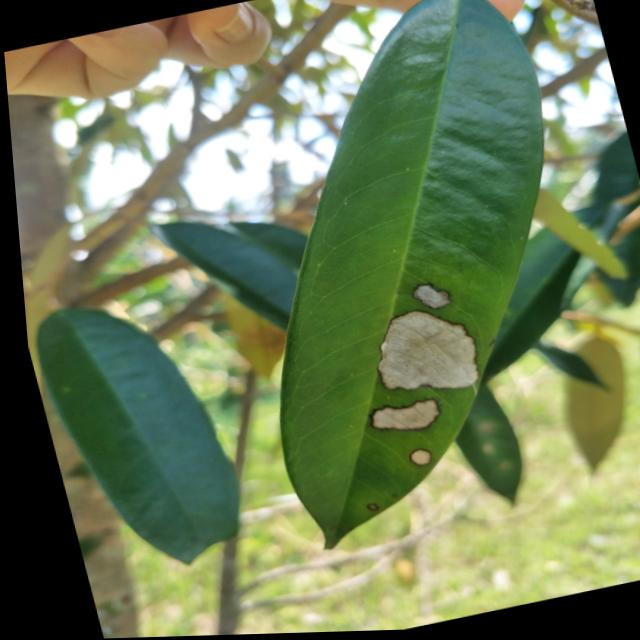Leaf Spot: (347, 283, 491, 413), (310, 362, 449, 458), (384, 272, 455, 324), (390, 444, 440, 482), (353, 494, 380, 520)
